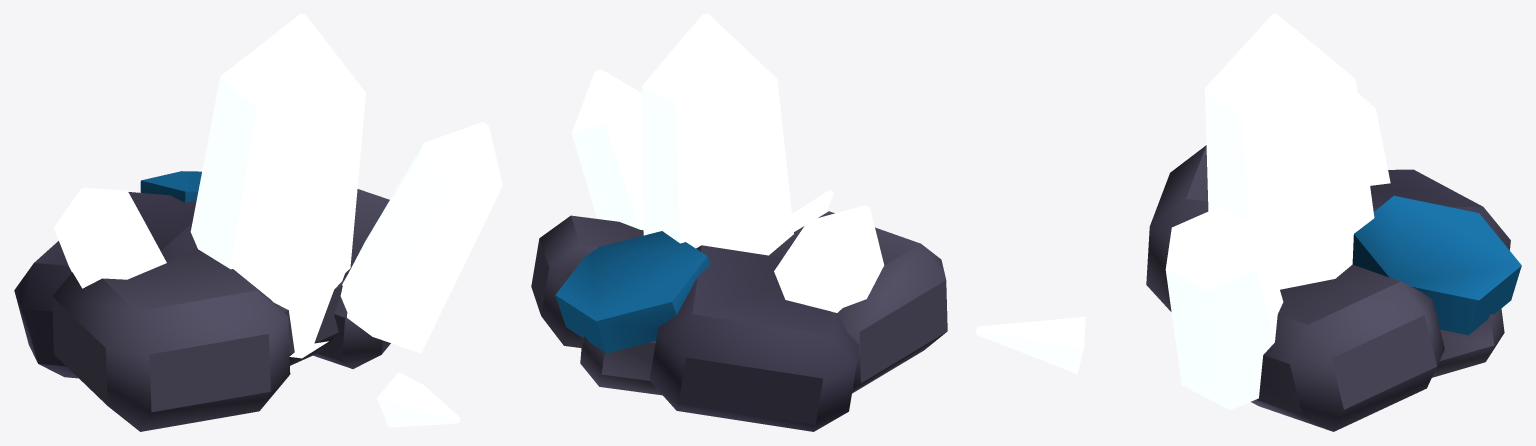
File: n_crystal_3.glb
3 views of the same model, side by side, from view 1: azimuth 30°, elevation 25°; view 2: azimuth 150°, elevation 25°; view 3: azimuth 270°, elevation 25° (orthographic). The views are drawn at different scales.
Parts seen in each view (by area): view 1: crystal_glow, body; view 2: body, crystal_glow; view 3: crystal_glow, body.
Boxes of the visible parts, x1,y1,x2,y2 form: crystal_glow: [54, 14, 502, 427]; body: [14, 171, 390, 431]; body: [531, 211, 947, 431]; crystal_glow: [571, 14, 884, 312]; crystal_glow: [976, 14, 1390, 410]; body: [1146, 145, 1521, 431].
Size of the model in its own units: 1.07 by 0.9385 by 1.24.
